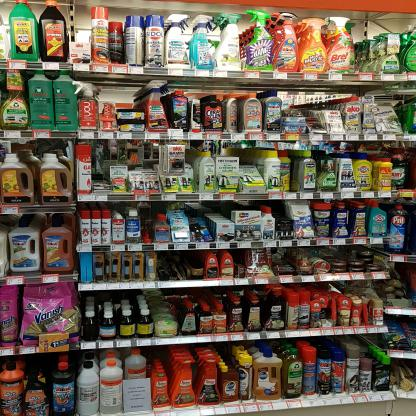Void: (160, 251, 203, 280), (103, 76, 141, 102)
